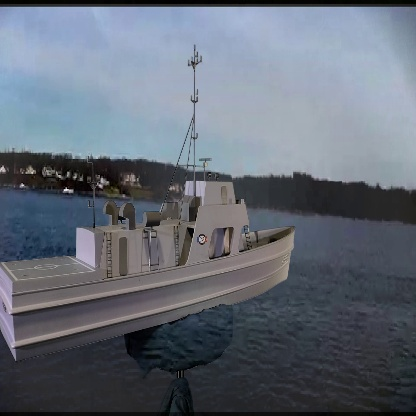YP689: (0, 41, 296, 366)
